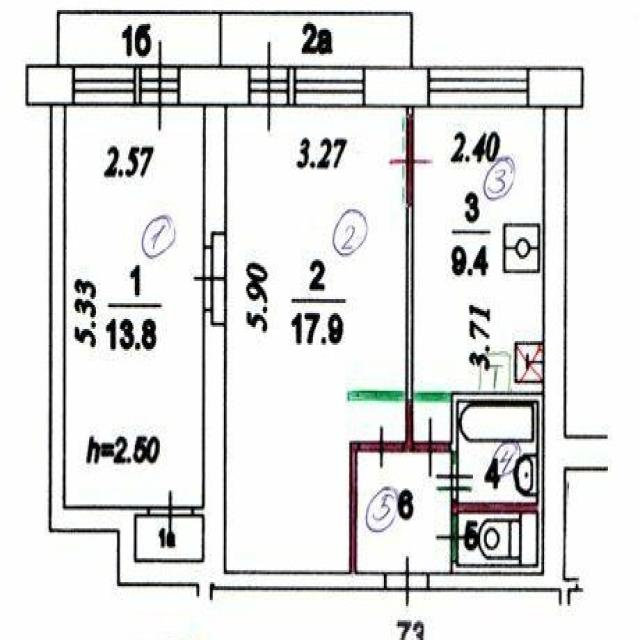Bathrooms: (458, 403, 538, 501), (459, 514, 537, 564)
Corridors: (358, 452, 450, 571), (223, 12, 412, 66), (58, 12, 218, 65), (137, 517, 202, 558)
Doors: (388, 114, 436, 207), (249, 38, 288, 133), (140, 38, 179, 132), (192, 234, 228, 324), (414, 416, 451, 482), (386, 555, 428, 607), (359, 422, 403, 471), (434, 451, 476, 501), (149, 488, 193, 534), (435, 513, 470, 562)
LBwalls: (49, 310, 227, 590), (543, 106, 609, 592), (203, 105, 228, 247), (178, 65, 250, 105), (365, 65, 429, 106), (528, 66, 583, 107), (27, 65, 74, 104), (288, 66, 296, 105), (135, 64, 141, 104)
Offices: (227, 106, 406, 571), (66, 107, 202, 505), (414, 106, 543, 441)
Walls: (450, 392, 543, 574), (49, 106, 66, 506), (225, 572, 386, 591), (405, 206, 414, 452), (428, 572, 543, 591), (348, 440, 361, 573), (197, 584, 213, 602), (218, 11, 223, 66), (135, 506, 148, 517), (192, 506, 204, 517), (407, 106, 414, 118)
Windows: (429, 67, 528, 107), (295, 67, 365, 106), (73, 65, 135, 104)
